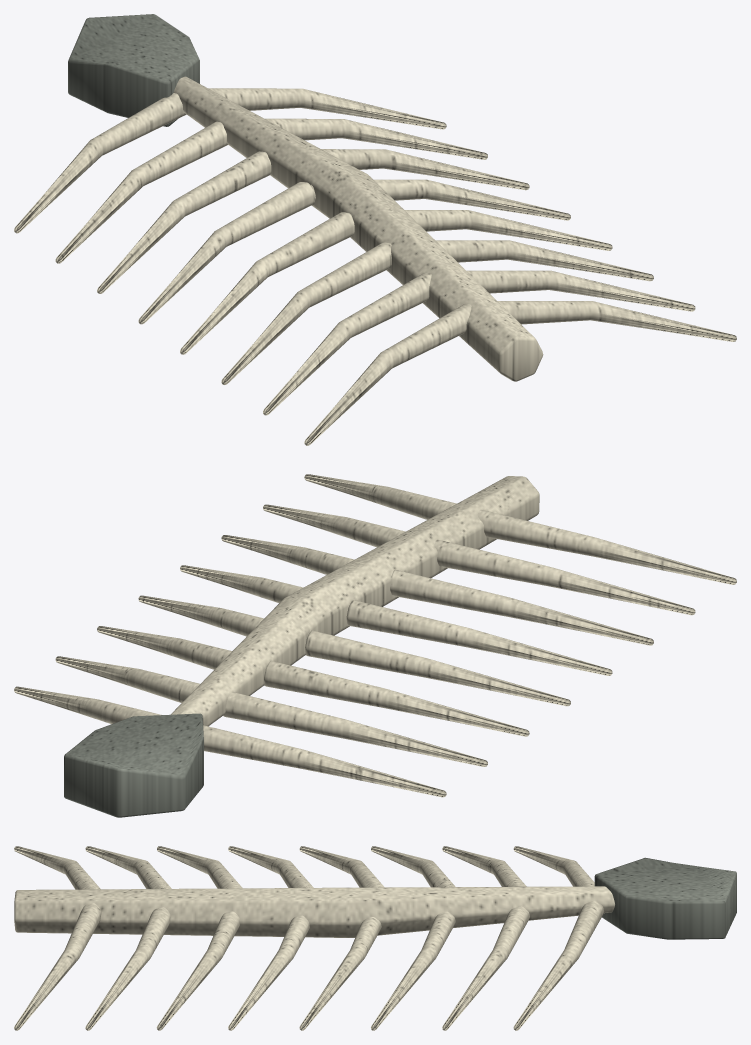
Rendered from food-11-full.glb.
3 views of the same model, one above another, from view 1: azimuth 30°, elevation 25°; view 2: azimuth 150°, elevation 25°; view 3: azimuth 270°, elevation 25° (orthographic). The views are drawn at different scales.
Visible parts, largest first — view 1: Food; view 2: Food; view 3: Food.
Part boxes in pixels (bbox=[...]): Food: bbox=[14, 14, 736, 445]; Food: bbox=[14, 474, 736, 817]; Food: bbox=[14, 846, 736, 1030].
Bounding box in the file's own units: 0.4207 × 0.0687 × 0.7092.
1 material, 1 textured.
